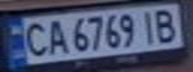6: (66, 15, 90, 53), (103, 11, 124, 50)
7: (84, 12, 106, 51)
9: (118, 10, 139, 48)
A: (42, 17, 69, 55)
B: (151, 7, 181, 44)
C: (18, 19, 51, 57)
I: (136, 7, 160, 45)
